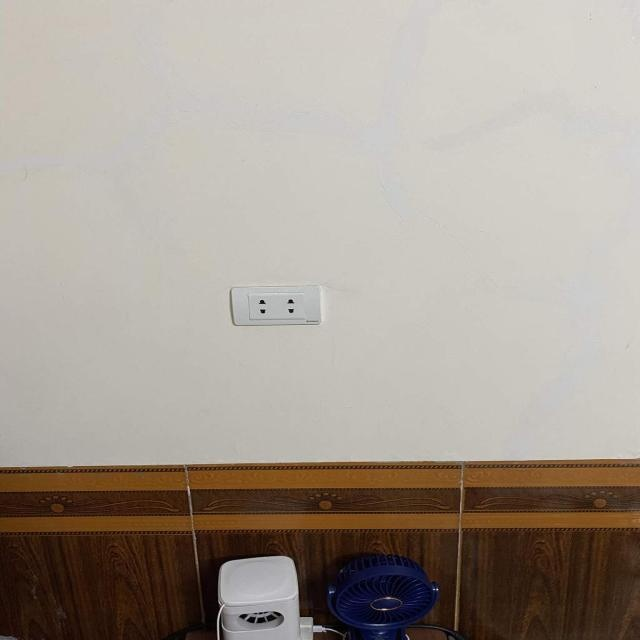outlet: (230, 284, 322, 326)
